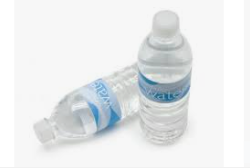Bottle: (36, 51, 185, 150), (136, 12, 191, 143)
